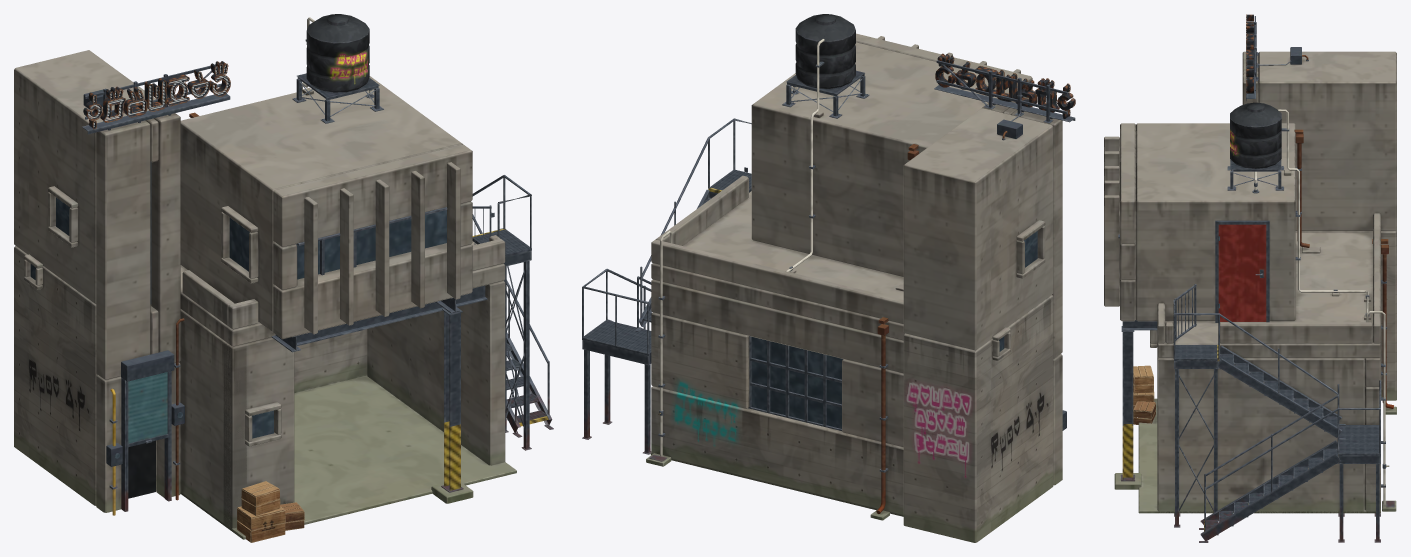
Rendered from props_estudio.glb.
3 renders of one model, left to right at view 1: azimuth 30°, elevation 25°; view 2: azimuth 150°, elevation 25°; view 3: azimuth 270°, elevation 25°, orthographic. The views are drawn at different scales.
Visible parts, largest first — view 1: Prop_Estudio, Prop_Estudio_Techo; view 2: Prop_Estudio, Prop_Estudio_Techo; view 3: Prop_Estudio, Prop_Estudio_Techo.
Part boxes in pixels (bbox=[...]): Prop_Estudio: bbox=[14, 50, 553, 542]; Prop_Estudio_Techo: bbox=[180, 14, 505, 352]; Prop_Estudio: bbox=[582, 53, 1075, 542]; Prop_Estudio_Techo: bbox=[651, 14, 1032, 340]; Prop_Estudio: bbox=[1114, 14, 1396, 542]; Prop_Estudio_Techo: bbox=[1104, 102, 1388, 358].
Bounding box in the file's own units: 8 × 7.54 × 5.5.
1 material, 1 textured.
